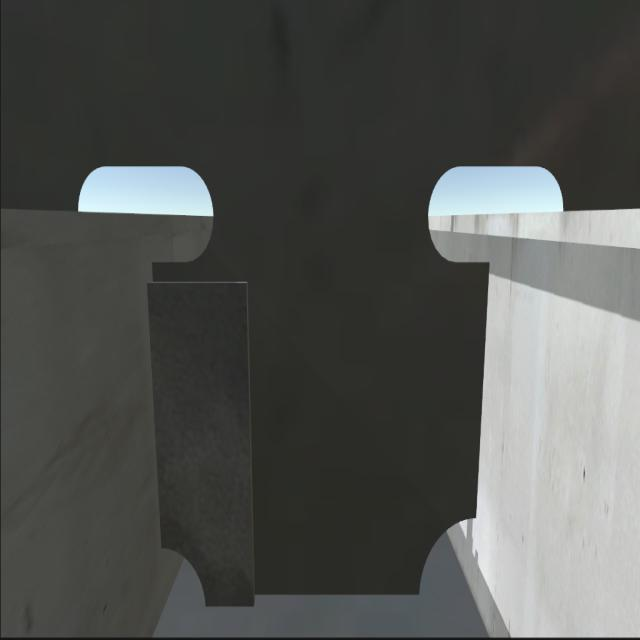fillet_hole: (417, 514, 477, 594), (162, 548, 206, 604)
fillet_yong_jeop_jang: (196, 591, 424, 608)
longi_yong_jeop_jang: (142, 257, 166, 555), (471, 255, 488, 529)
plate_CP01: (147, 283, 249, 609)
